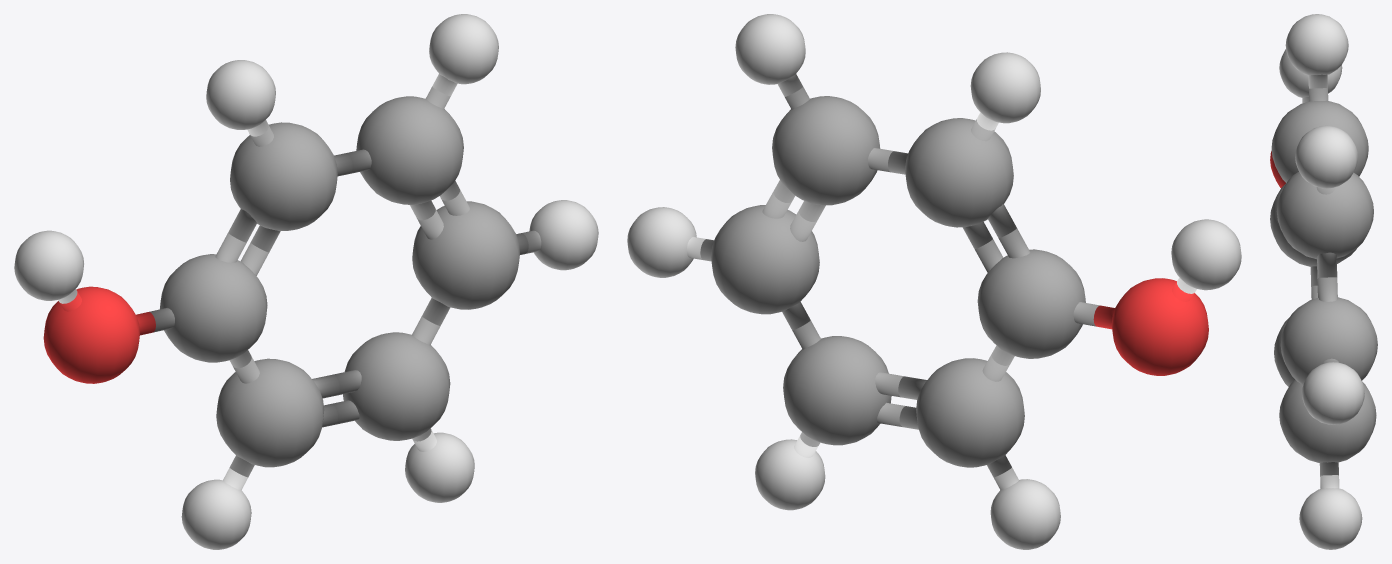
File: fenol.glb
3 renders of one model, left to right at view 1: azimuth 30°, elevation 25°; view 2: azimuth 150°, elevation 25°; view 3: azimuth 270°, elevation 25°, orthographic. The views are drawn at different scales.
Parts seen in each view (by area): view 1: Shape_Sphere.001_33, Shape_Sphere.004_36, Shape_Sphere.003_35, Shape_Sphere.002_34, Shape_Sphere.005_37, Shape_Sphere_32, Shape_Sphere.006_38, Shape_Sphere.012_44, Shape_Sphere.009_41, Shape_Sphere.008_40, Shape_Sphere.010_42, Shape_Sphere.007_39 (+1 smaller); view 2: Shape_Sphere.001_33, Shape_Sphere.004_36, Shape_Sphere.003_35, Shape_Sphere.002_34, Shape_Sphere.005_37, Shape_Sphere_32, Shape_Sphere.006_38, Shape_Sphere.012_44, Shape_Sphere.009_41, Shape_Sphere.008_40, Shape_Sphere.010_42, Shape_Sphere.007_39 (+1 smaller); view 3: Shape_Sphere.001_33, Shape_Sphere_32, Shape_Sphere.005_37, Shape_Sphere.002_34, Shape_Sphere.008_40, Shape_Sphere.007_39, Shape_Sphere.011_43, Shape_Sphere.009_41, Shape_Sphere.012_44, Shape_Sphere.003_35, Shape_Sphere.004_36, Shape_Cylinder.002_2 (+6 smaller).
Part boxes in pixels (bbox=[...]): Shape_Sphere.001_33: bbox=[356, 96, 463, 204]; Shape_Sphere.004_36: bbox=[216, 358, 324, 467]; Shape_Sphere.003_35: bbox=[160, 254, 267, 362]; Shape_Sphere.002_34: bbox=[230, 122, 337, 230]; Shape_Sphere.005_37: bbox=[343, 332, 450, 440]; Shape_Sphere_32: bbox=[412, 201, 519, 309]; Shape_Sphere.006_38: bbox=[43, 286, 140, 383]; Shape_Sphere.012_44: bbox=[14, 230, 83, 300]; Shape_Sphere.009_41: bbox=[206, 60, 275, 129]; Shape_Sphere.008_40: bbox=[429, 14, 498, 84]; Shape_Sphere.010_42: bbox=[181, 479, 251, 549]; Shape_Sphere.007_39: bbox=[529, 200, 598, 270]; Shape_Sphere.001_33: bbox=[772, 96, 880, 205]; Shape_Sphere.004_36: bbox=[916, 358, 1024, 467]; Shape_Sphere.003_35: bbox=[977, 249, 1085, 358]; Shape_Sphere.002_34: bbox=[905, 118, 1013, 227]; Shape_Sphere.005_37: bbox=[783, 336, 891, 445]; Shape_Sphere_32: bbox=[711, 205, 819, 314]; Shape_Sphere.006_38: bbox=[1111, 278, 1208, 375]; Shape_Sphere.012_44: bbox=[1171, 219, 1241, 290]; Shape_Sphere.009_41: bbox=[970, 52, 1040, 123]; Shape_Sphere.008_40: bbox=[735, 14, 805, 84]; Shape_Sphere.010_42: bbox=[990, 479, 1060, 549]; Shape_Sphere.007_39: bbox=[627, 207, 696, 277]; Shape_Sphere.001_33: bbox=[1276, 172, 1373, 259]; Shape_Sphere_32: bbox=[1280, 297, 1377, 384]; Shape_Sphere.005_37: bbox=[1279, 379, 1376, 462]; Shape_Sphere.002_34: bbox=[1271, 100, 1368, 183]; Shape_Sphere.008_40: bbox=[1295, 125, 1357, 188]; Shape_Sphere.007_39: bbox=[1302, 362, 1364, 424]; Shape_Sphere.011_43: bbox=[1299, 488, 1362, 549]; Shape_Sphere.009_41: bbox=[1285, 14, 1348, 75]; Shape_Sphere.012_44: bbox=[1279, 49, 1342, 97]; Shape_Sphere.003_35: bbox=[1270, 184, 1356, 266]; Shape_Sphere.004_36: bbox=[1274, 317, 1294, 386]; Shape_Cylinder.002_2: bbox=[1317, 252, 1337, 277].
Bounding box in the file's own units: 6.36 × 5.09 × 1.13.
